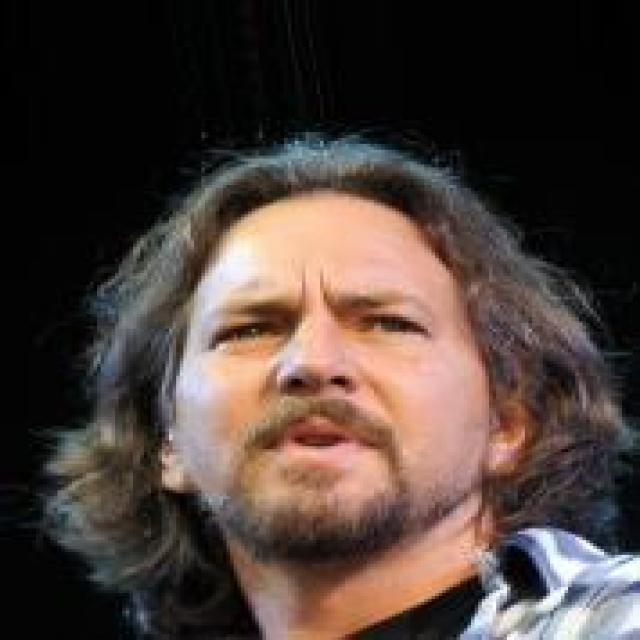bareface: (175, 178, 512, 568)
